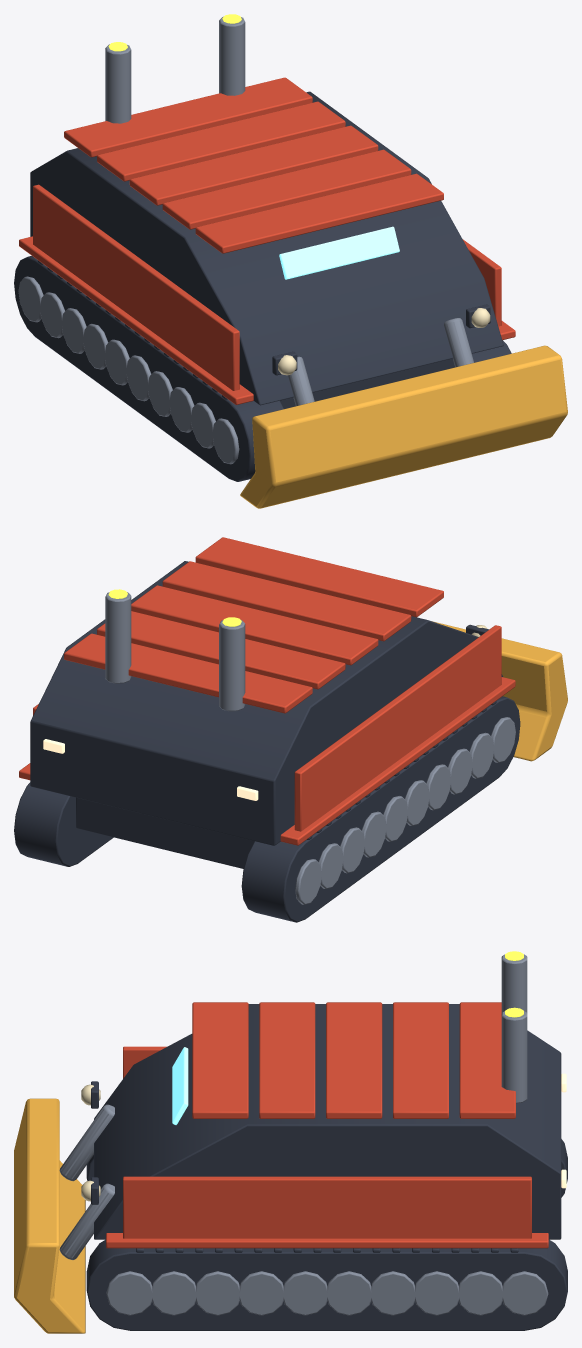
Rendered from lavapanzer.fbx.
3 views of the same model, one above another, from view 1: azimuth 30°, elevation 25°; view 2: azimuth 150°, elevation 25°; view 3: azimuth 270°, elevation 25° (orthographic).
Parts seen in each view (by area): view 1: lavapanzer_Koerper, lavapanzer_Werkzeug; view 2: lavapanzer_Koerper, lavapanzer_Werkzeug; view 3: lavapanzer_Koerper, lavapanzer_Werkzeug.
Boxes of the visible parts, bbox=[...] form: lavapanzer_Koerper: bbox=[14, 14, 515, 481]; lavapanzer_Werkzeug: bbox=[240, 318, 567, 508]; lavapanzer_Koerper: bbox=[14, 537, 520, 922]; lavapanzer_Werkzeug: bbox=[432, 621, 567, 761]; lavapanzer_Koerper: bbox=[81, 951, 567, 1330]; lavapanzer_Werkzeug: bbox=[14, 1098, 114, 1333].
Bounding box in the file's own units: 2.6 × 2.32 × 4.14.
